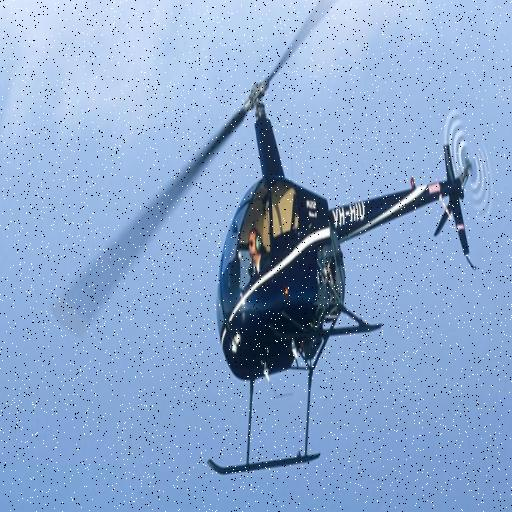helicopter: (63, 1, 494, 477)
